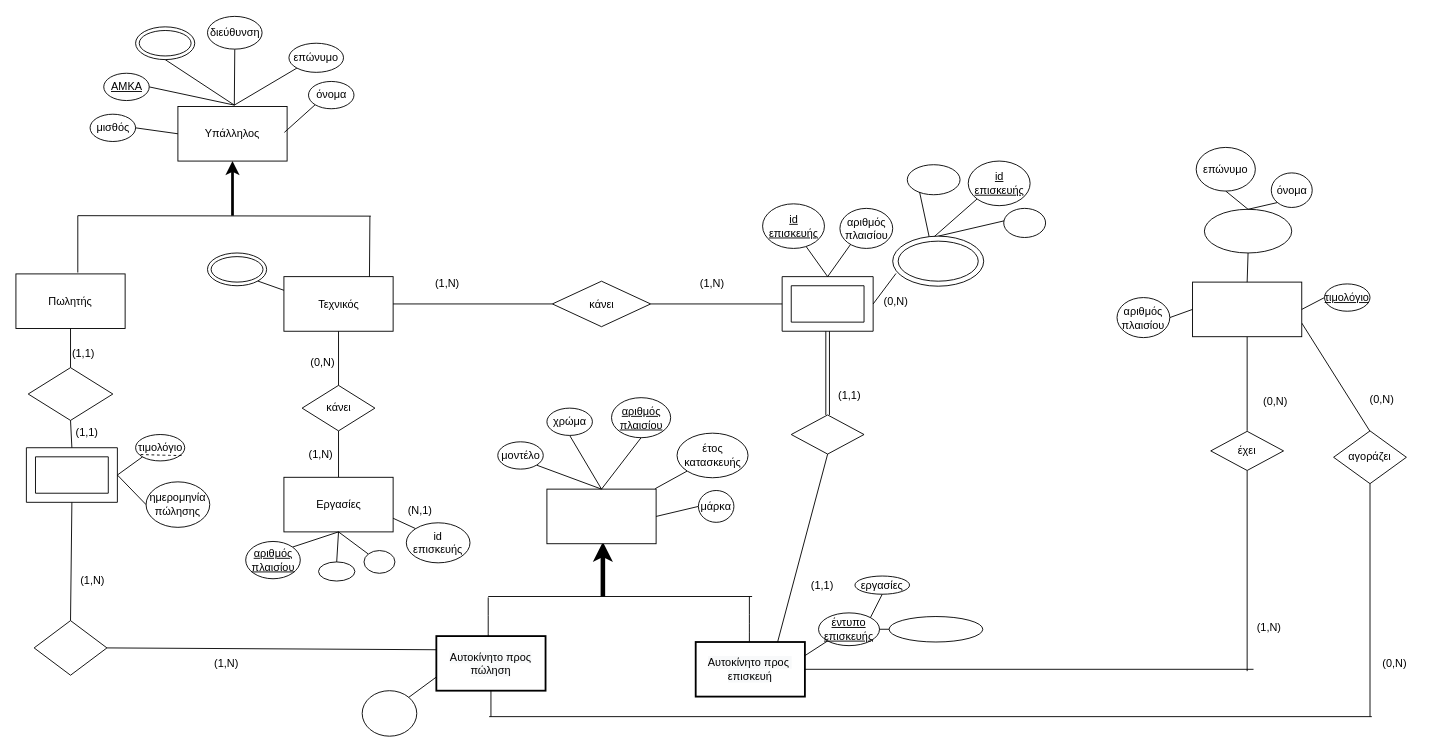
This 1433x752 diagram has some shape labels left out. Each missing label, with the centre of its shape:
"ανταλλακτικά" belongs at point (937, 260).
"από" belongs at point (336, 571).
"απόθεμα" belongs at point (389, 713).
"αυτοκίνητο" belongs at point (601, 516).
"διεκπεραιώνει" belongs at point (70, 393).
"είδος" belongs at point (1024, 222).
"είναι_για" belongs at point (70, 647).
"ειδικότητα" belongs at point (237, 269).
"επισκευή" belongs at point (827, 303).
"εώς" belongs at point (379, 561).
"ημερομηνία παραλαβής" belongs at point (935, 629).
"ονοματεπώνυμο" belongs at point (1247, 230).
"πελάτης" belongs at point (1247, 309).
"ποσότητα" belongs at point (933, 179).
"πώληση" belongs at point (71, 474).
"τηλέφωνο" belongs at point (165, 43).
"χρεάζεται" belongs at point (827, 434).
